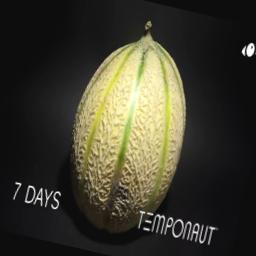Melon Ripe: (48, 7, 211, 238)
